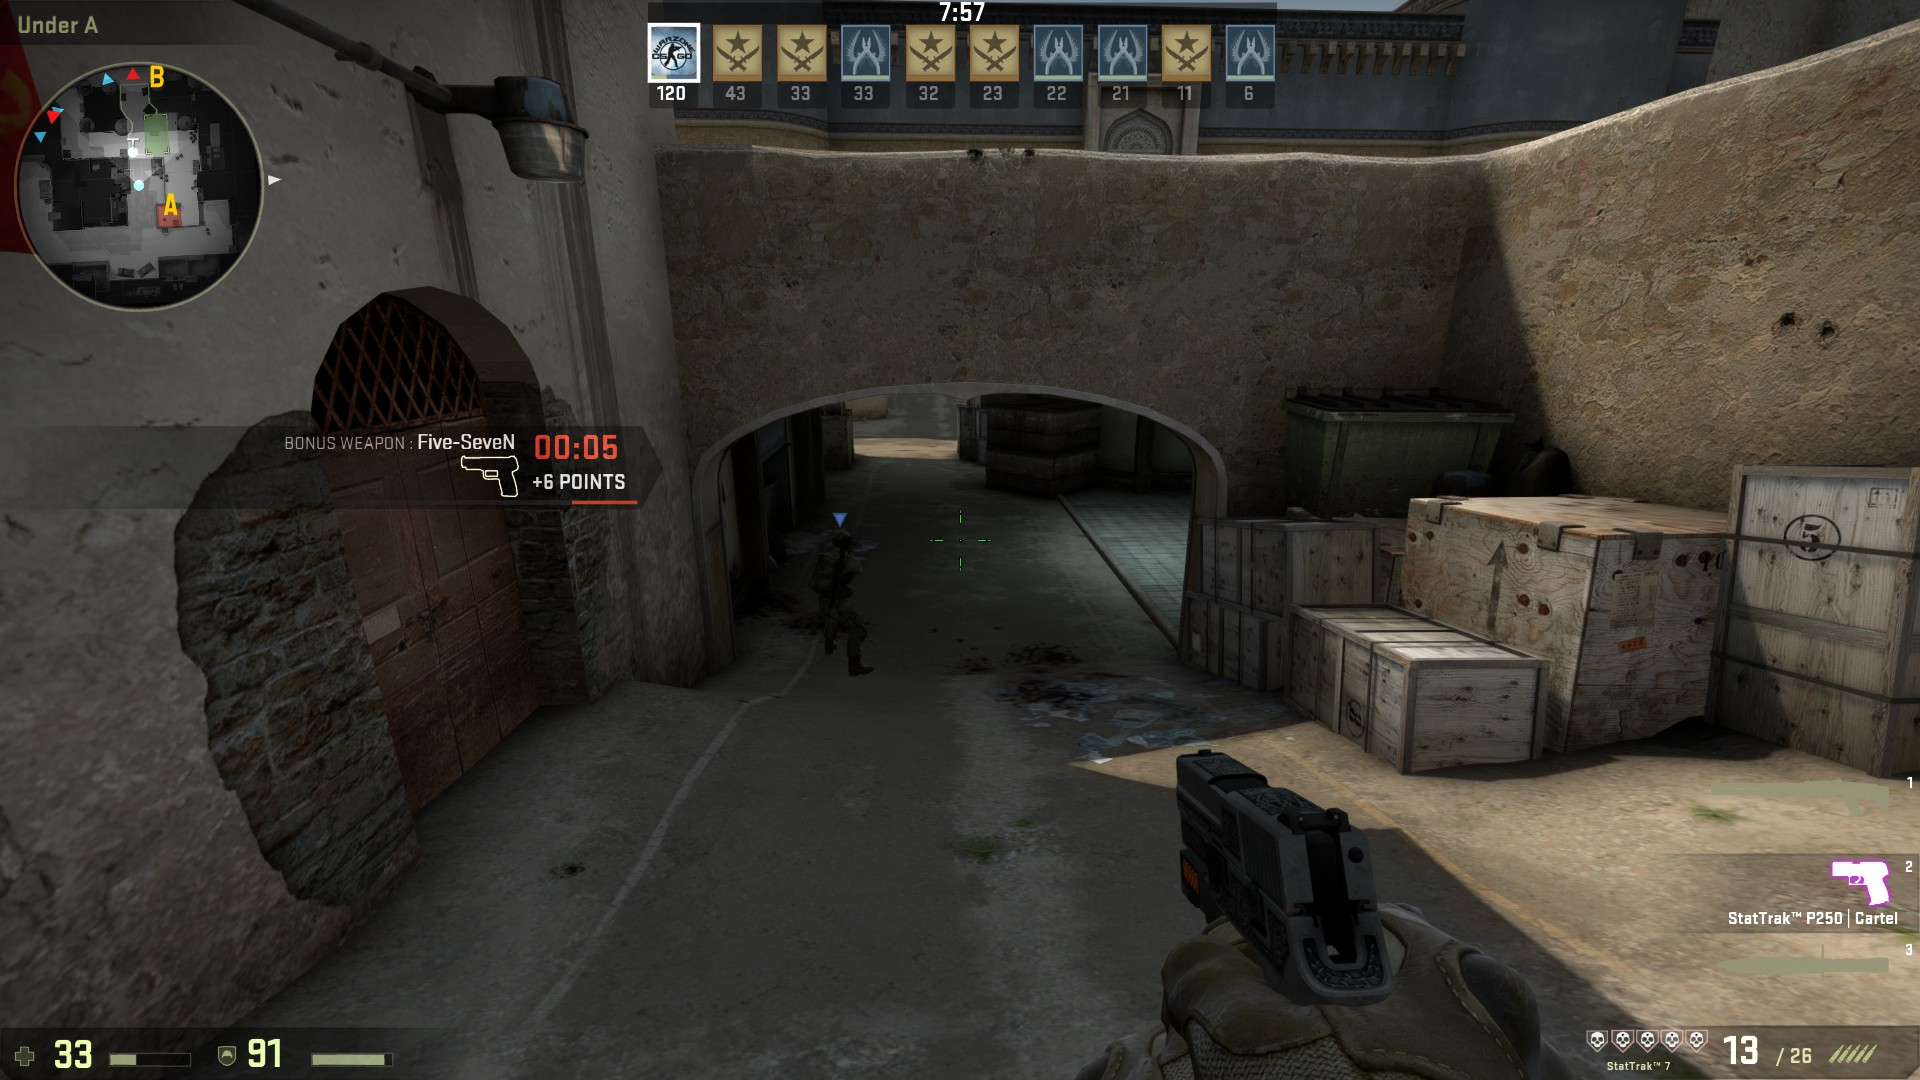c: (811, 531, 869, 676)
ch: (827, 530, 855, 554)
